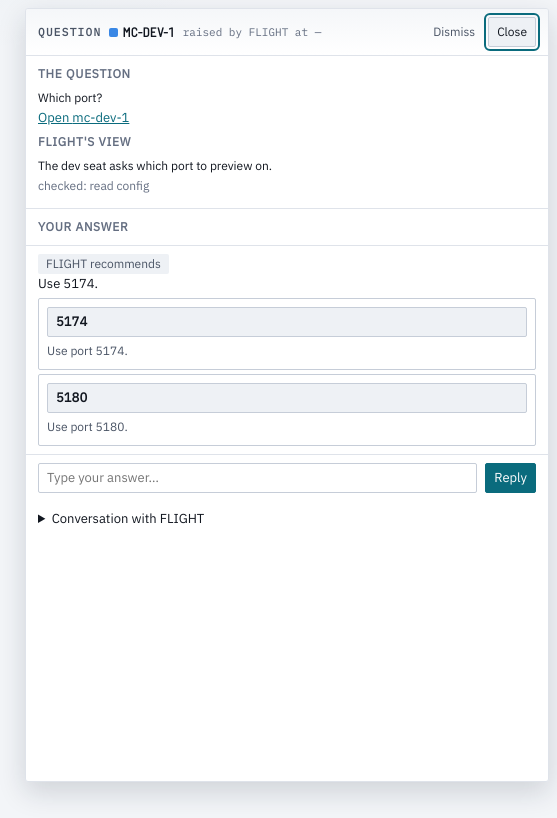
Test: ItemPanel choice state › keeps an answered choice visible and disables another answer
The width and height of the screenshot is (557, 818).
Step 1. Click the button "5174" → (72, 322), box [47,307,527,337]
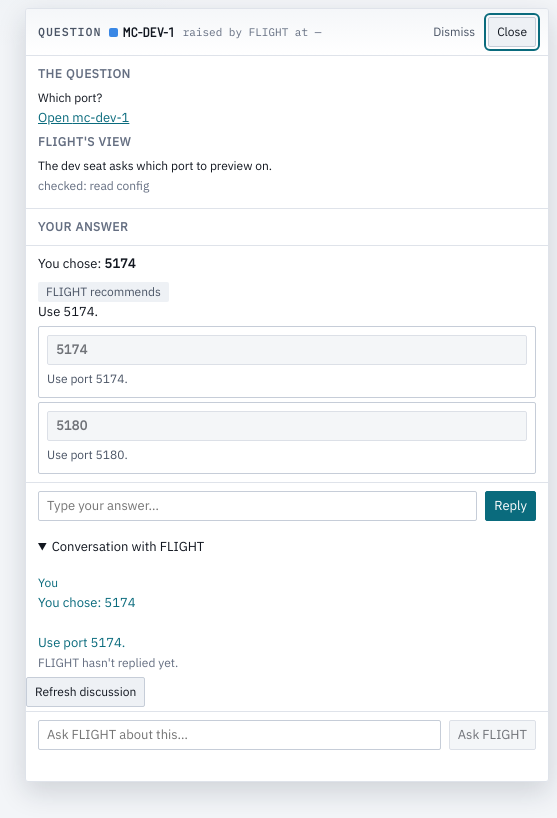
Expected: the text "You chose:" is shown, [38,255,104,272]
Expected: the button "5174" is disabled, [47,335,527,365]
Expected: the button "5180" is disabled, [47,411,527,441]
